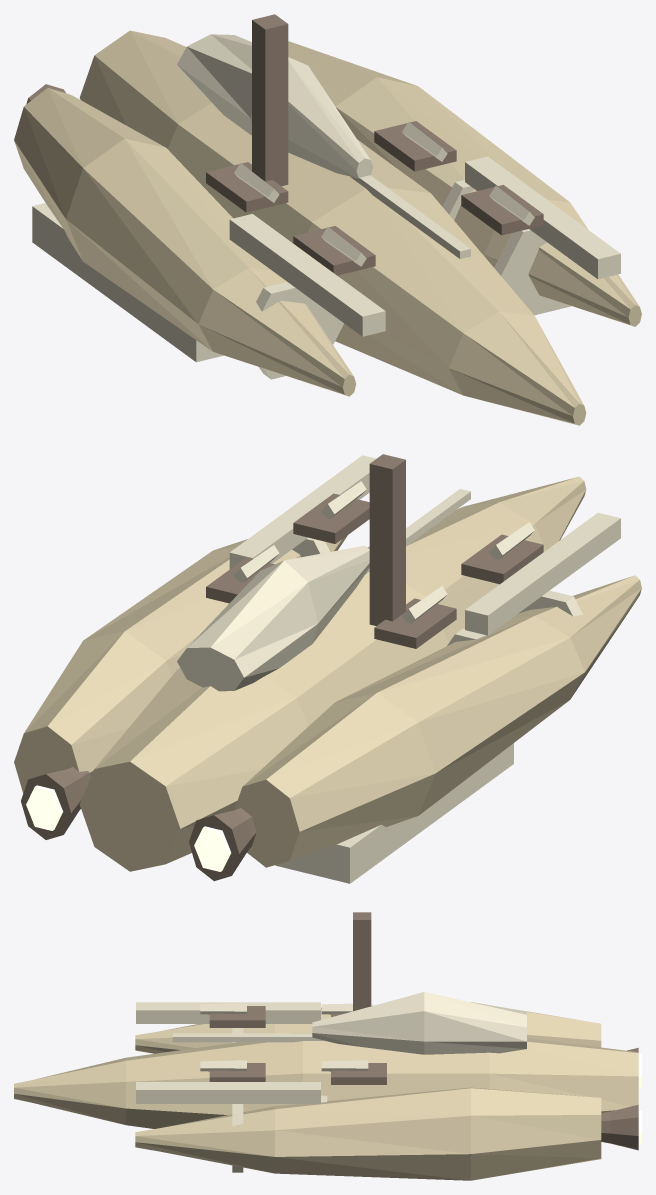
3 views of the same model, one above another, from view 1: azimuth 30°, elevation 25°; view 2: azimuth 150°, elevation 25°; view 3: azimuth 270°, elevation 25° (orthographic). The views are drawn at different scales.
Bounding box in the file's own units: 8.06 × 5.99 × 16.31.
